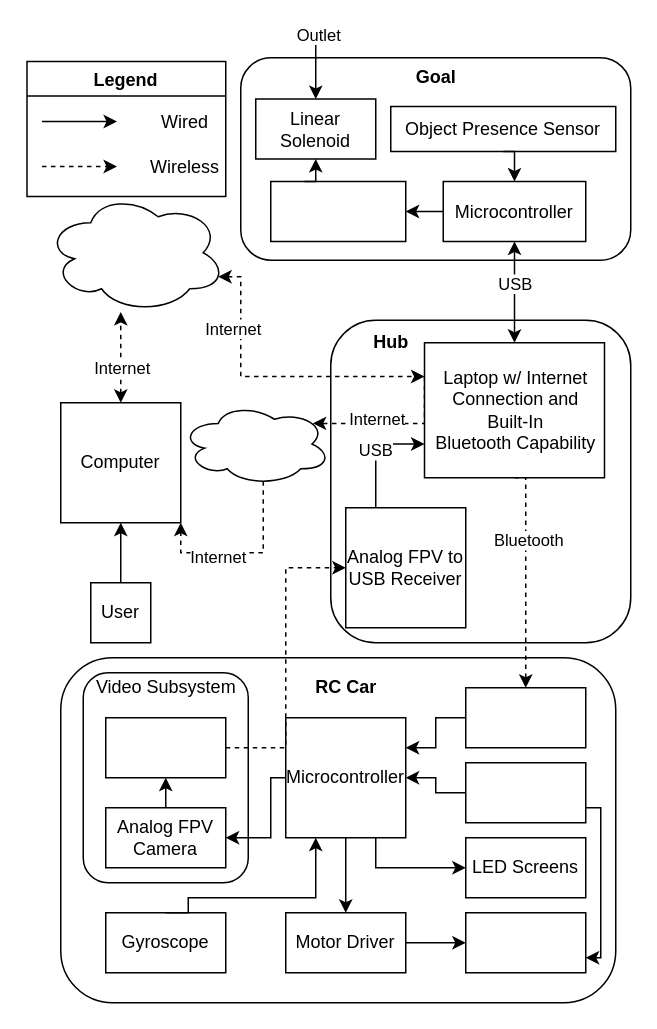
This 657x1029 diagram has some shape labels left out. Each missing label, with the box of its shape:
Analog FPV Transmitter: (104, 716, 226, 778)
AWS Amplify Web Server: (44, 191, 226, 313)
Battery: (464, 761, 586, 823)
Bluetooth Receiver: (464, 686, 586, 748)
Motors/Wheels: (464, 911, 586, 973)
N-channel Power MOSFET: (269, 180, 406, 242)
Streaming Platform: (179, 401, 331, 485)
